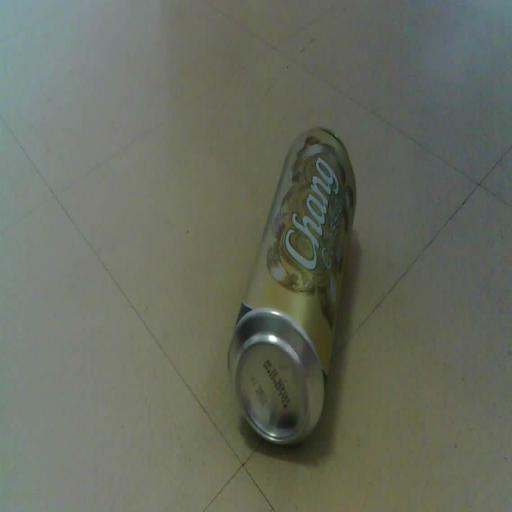canned: (211, 111, 365, 456)
